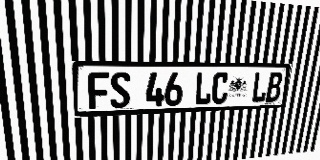4: (145, 72, 165, 107)
6: (164, 72, 184, 106)
B: (265, 72, 283, 102)
C: (211, 72, 230, 104)
F: (88, 72, 110, 109)
L: (194, 72, 213, 105), (251, 72, 269, 103)
S: (110, 72, 130, 108)
